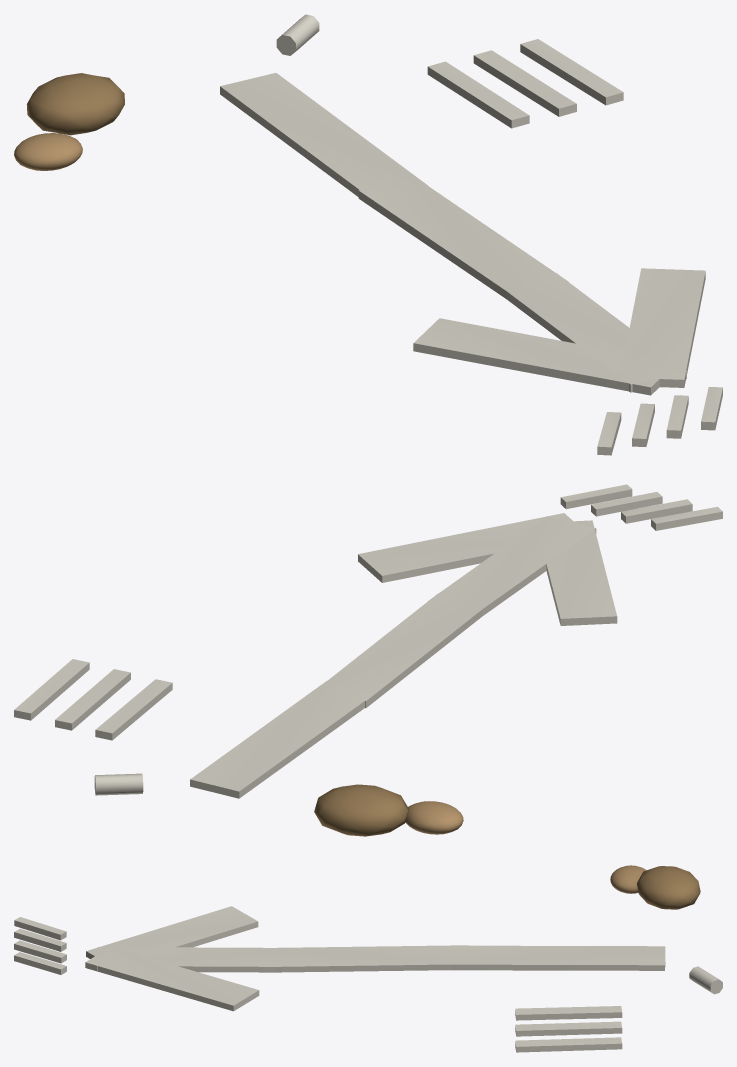
Rendered from chalk_turn_a.glb.
3 views of the same model, one above another, from view 1: azimuth 30°, elevation 25°; view 2: azimuth 150°, elevation 25°; view 3: azimuth 270°, elevation 25° (orthographic). The views are drawn at different scales.
Parts seen in each view (by area): view 1: Surface; view 2: Surface; view 3: Surface.
Boxes of the visible parts, x1,y1,x2,y2 form: Surface: (14,14,722,455); Surface: (14,484,722,836); Surface: (14,865,722,1052).
Size of the model in its own units: 3.36 by 0.3185 by 5.67.
